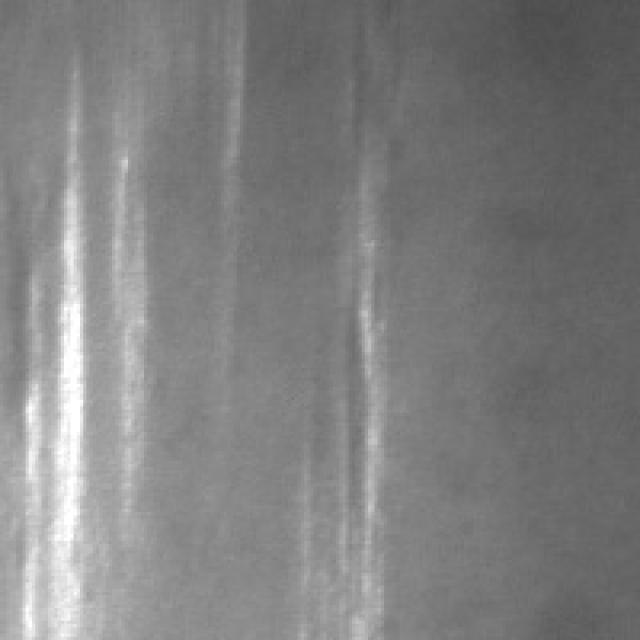scratches: (13, 93, 83, 630), (99, 138, 160, 515), (342, 195, 390, 621)
